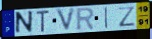I: (104, 6, 109, 30)
N: (14, 10, 34, 36)
R: (75, 7, 96, 32)
T: (35, 9, 51, 33)
V: (55, 7, 77, 34)
Z: (117, 6, 137, 28)
